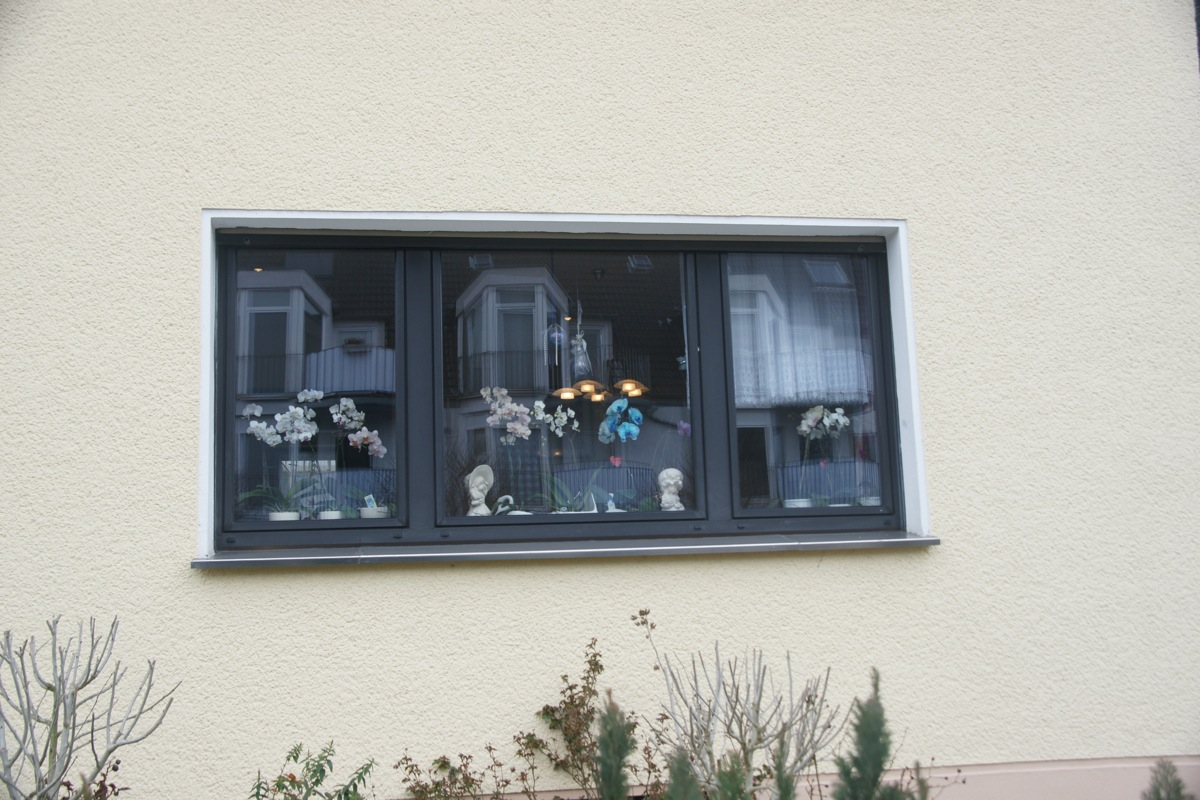windows: (204, 211, 912, 538)
